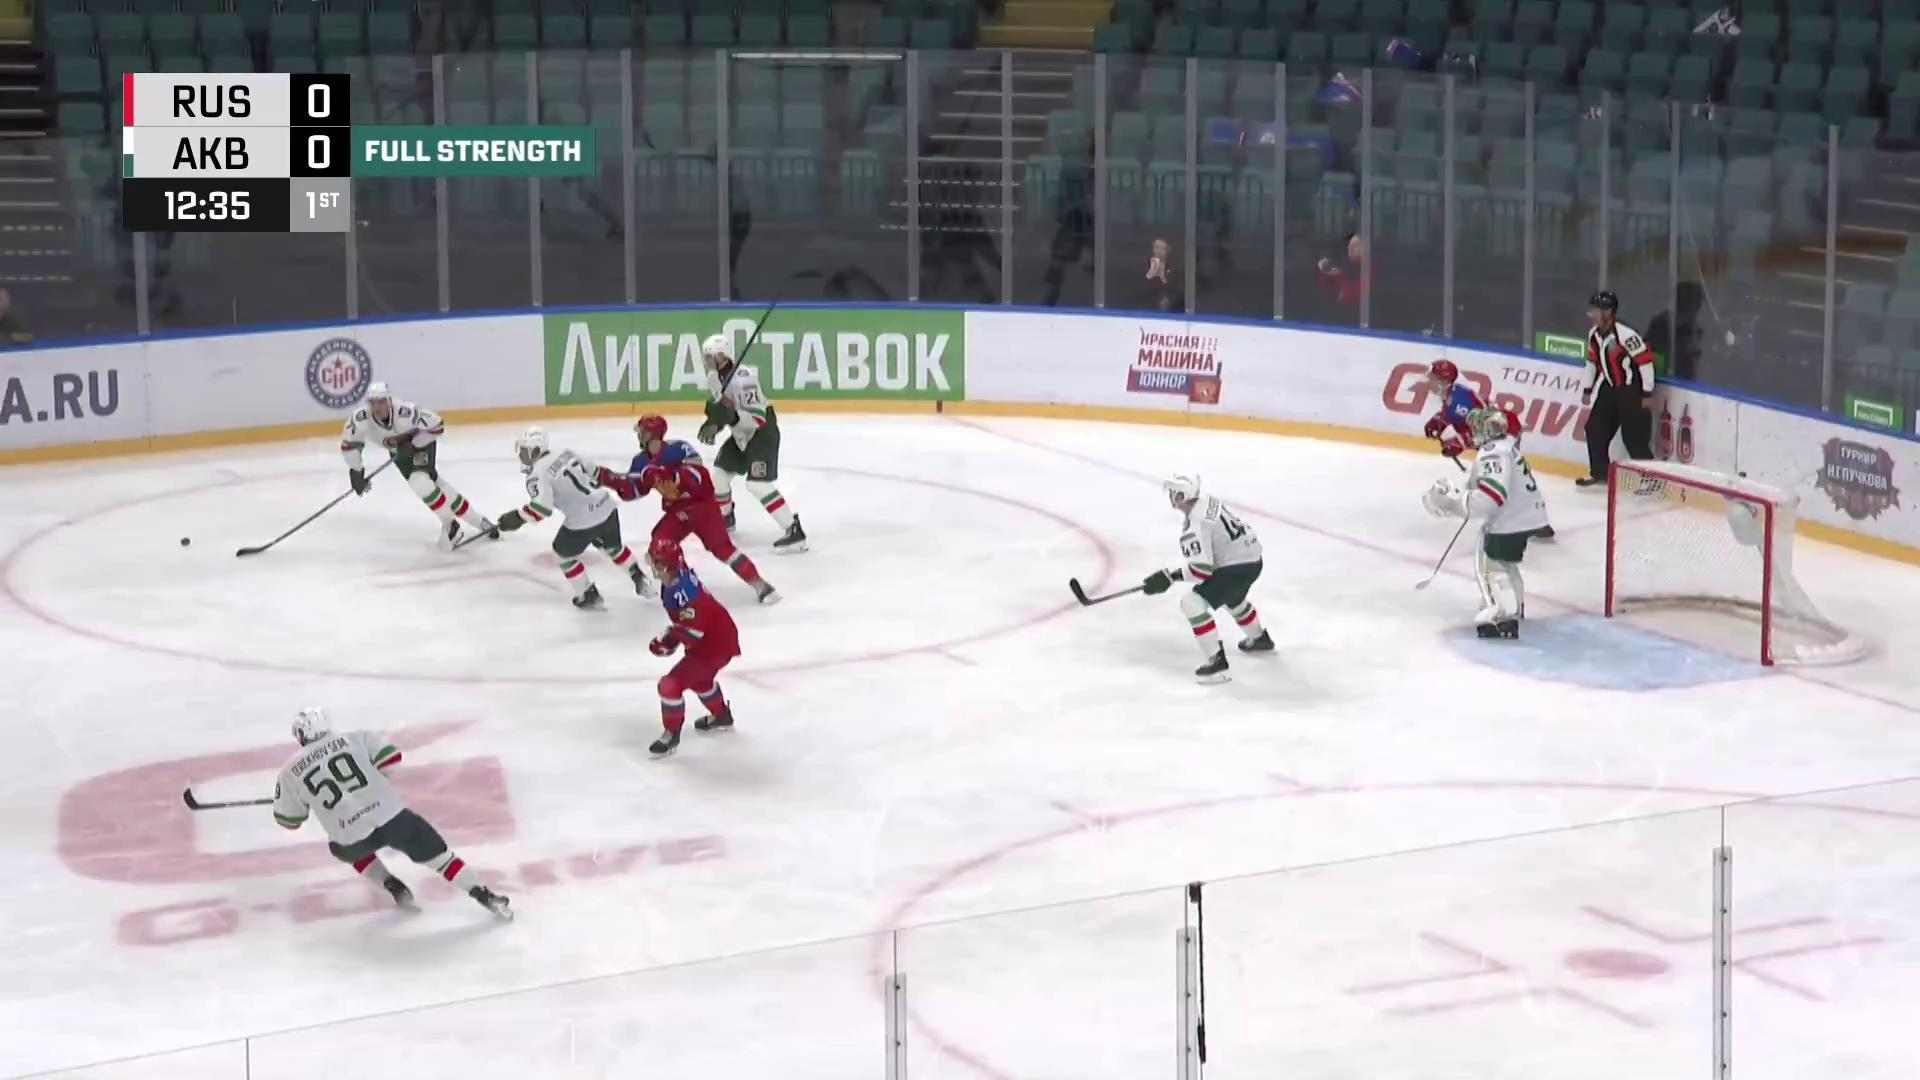ball: (179, 537, 193, 549)
